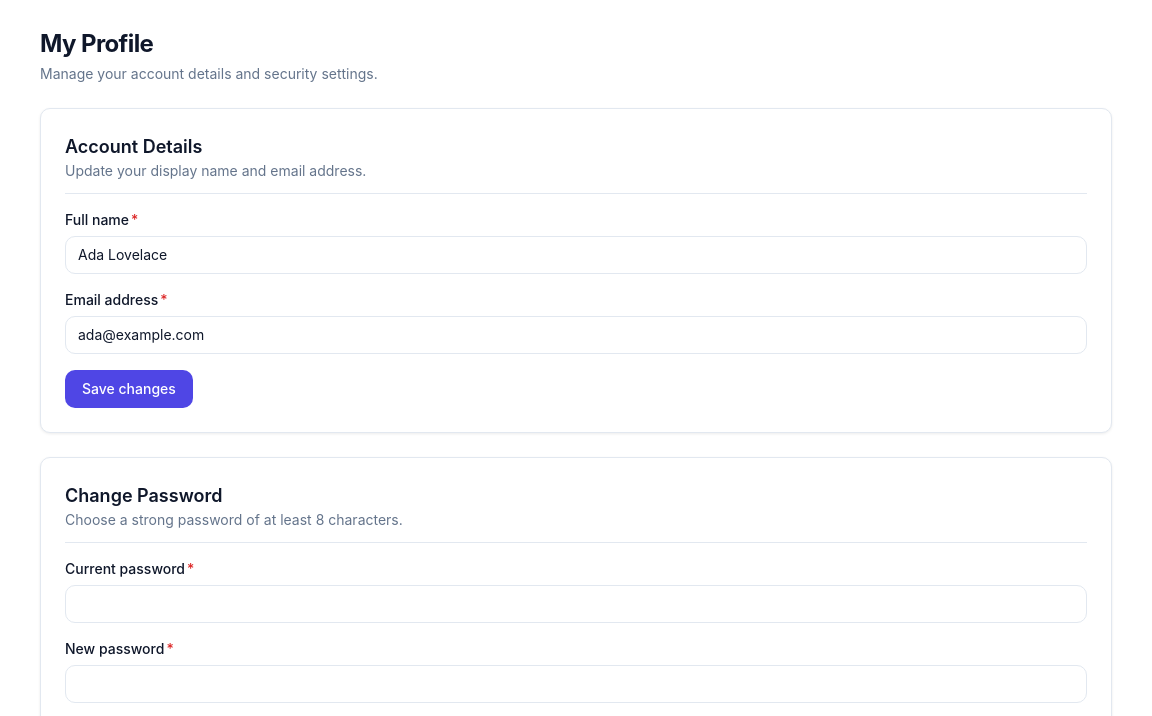
Test: ProfilePage › validates password mismatch and submits password change
Type "oldpass123" into the password field labelled "Current password*" at (576, 604), box x1=65 y1=585 x2=1087 y2=623
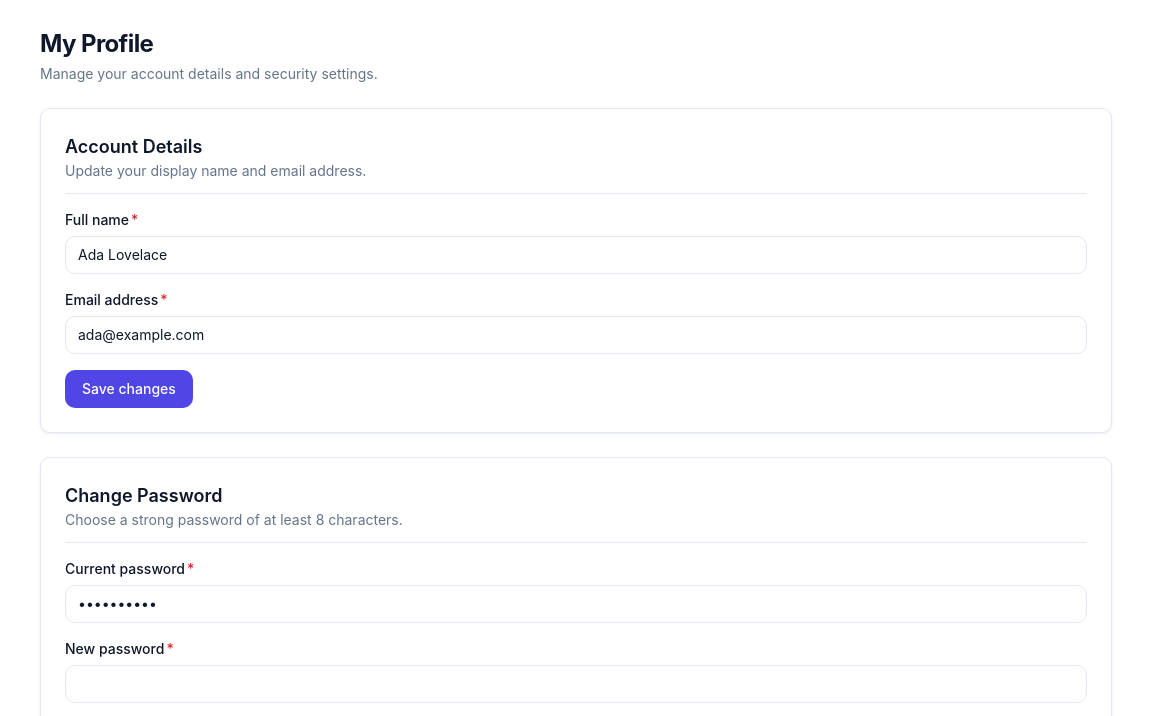
Type "newpass1234" into the password field labelled "New password*" at (576, 684), box x1=65 y1=665 x2=1087 y2=703
(page scrolled)
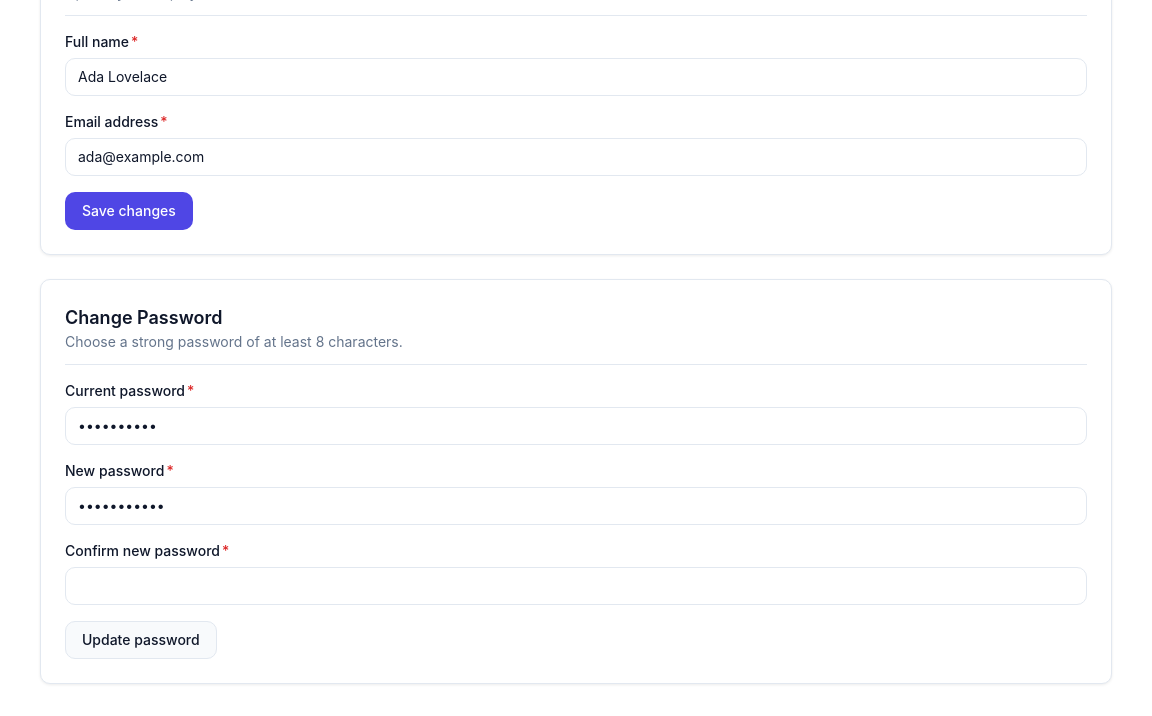
Type "different123" into the password field labelled "Confirm new password*" at (576, 586), box x1=65 y1=567 x2=1087 y2=605
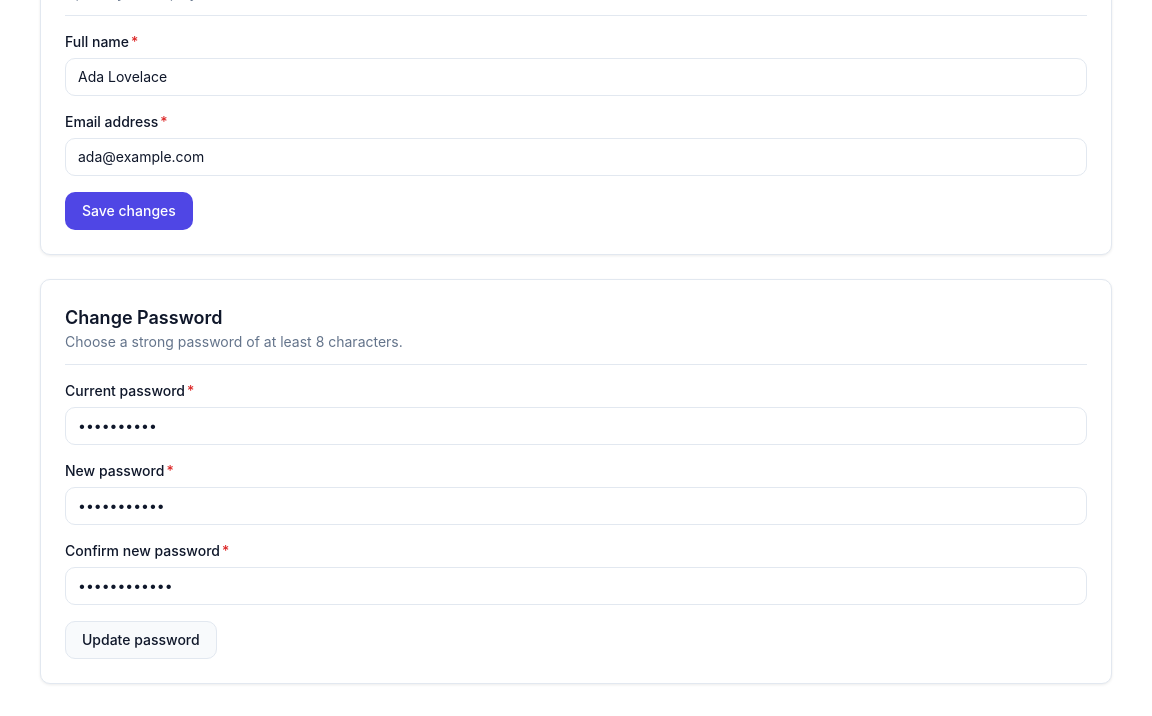
Click the button "Update password" at (141, 640), box x1=65 y1=621 x2=217 y2=659
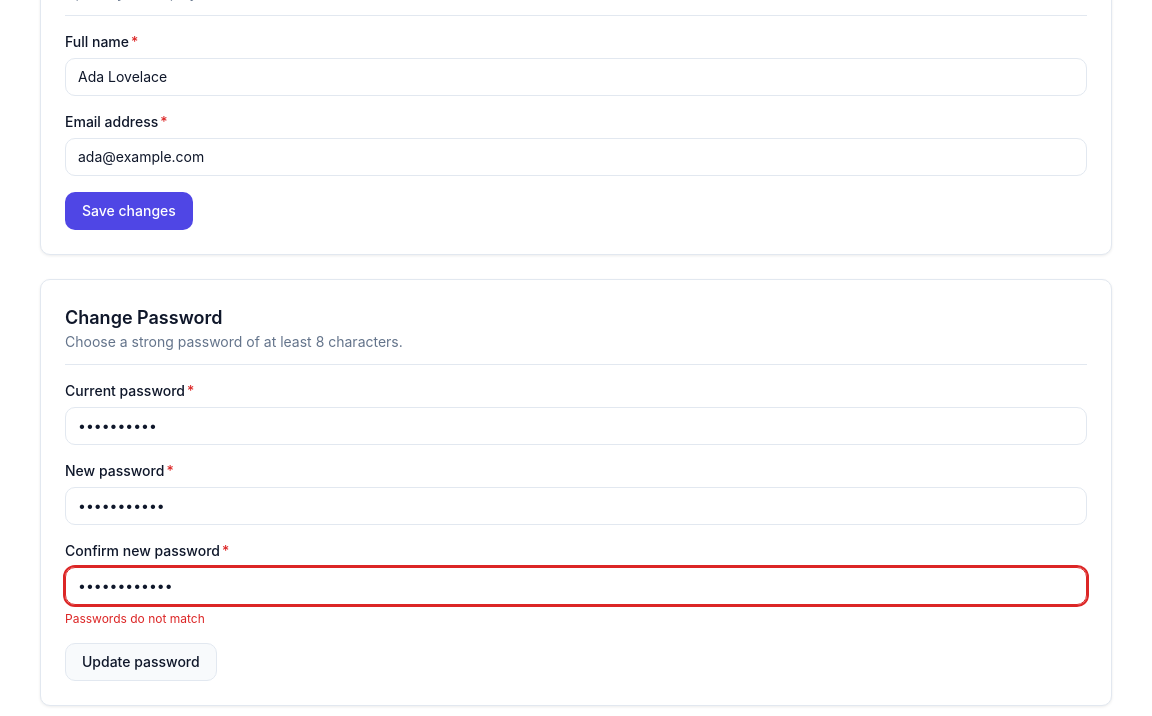
Expected: the text "Passwords do not match" is shown, x1=65 y1=611 x2=205 y2=626
Type "newpass1234" into the password field labelled "Confirm new password*" at (576, 586), box x1=65 y1=567 x2=1087 y2=605
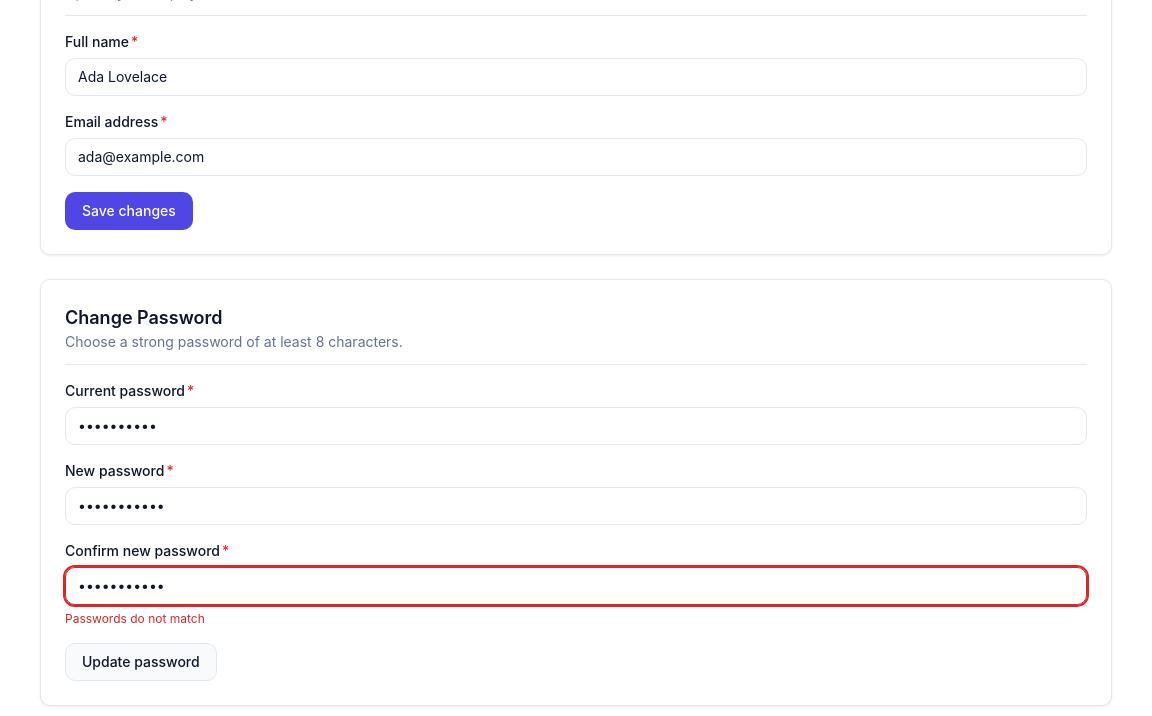
Click the button "Update password" at (141, 662), box x1=65 y1=643 x2=217 y2=681
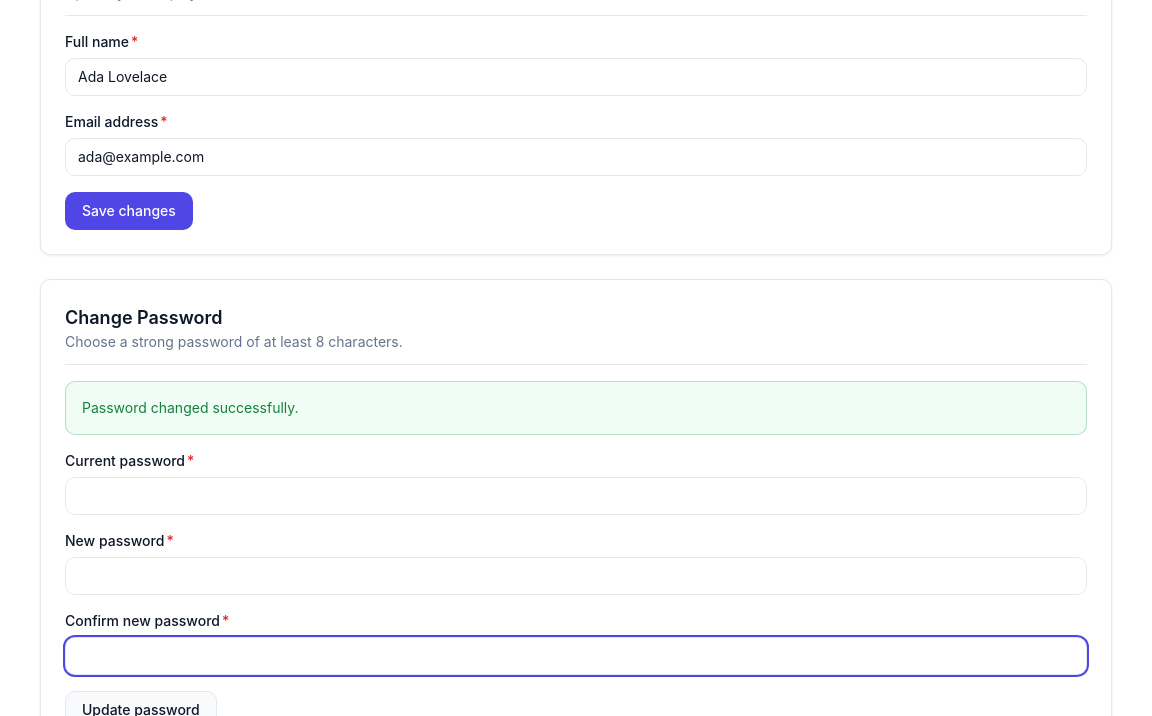
Expected: the text "Password changed successfully." is shown, x1=82 y1=398 x2=299 y2=418
